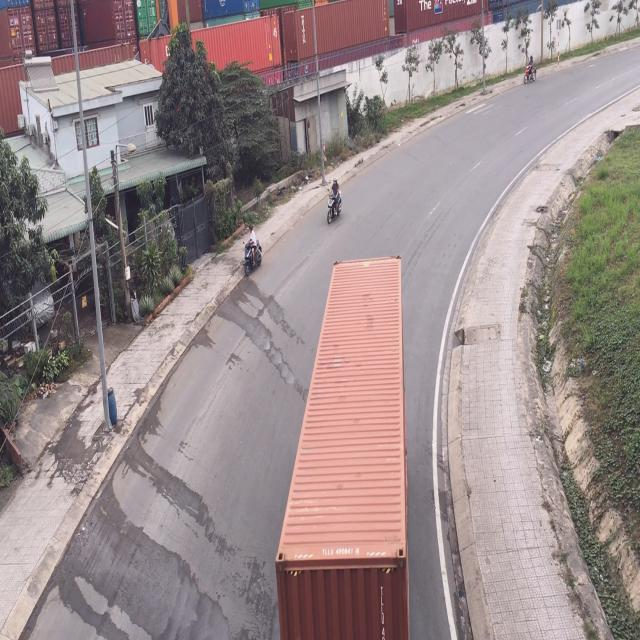motorbike: (243, 228, 263, 278), (328, 179, 345, 227), (522, 49, 538, 88)
truck: (277, 252, 414, 638)
